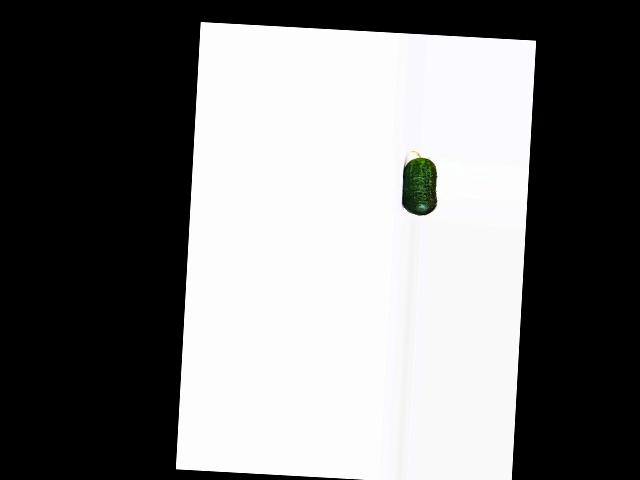cucumber: (400, 149, 440, 215)
